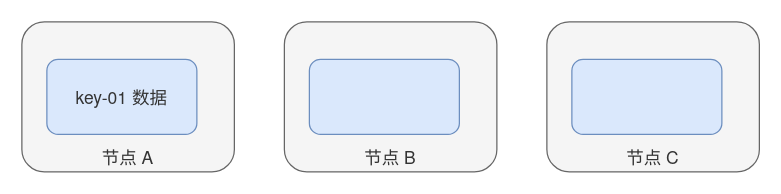
This 781x194 diagram has some shape labels left out. Each missing label, with the centre of its shape:
key-02 数据: the point at 383,96
key-03 数据: the point at 646,96
